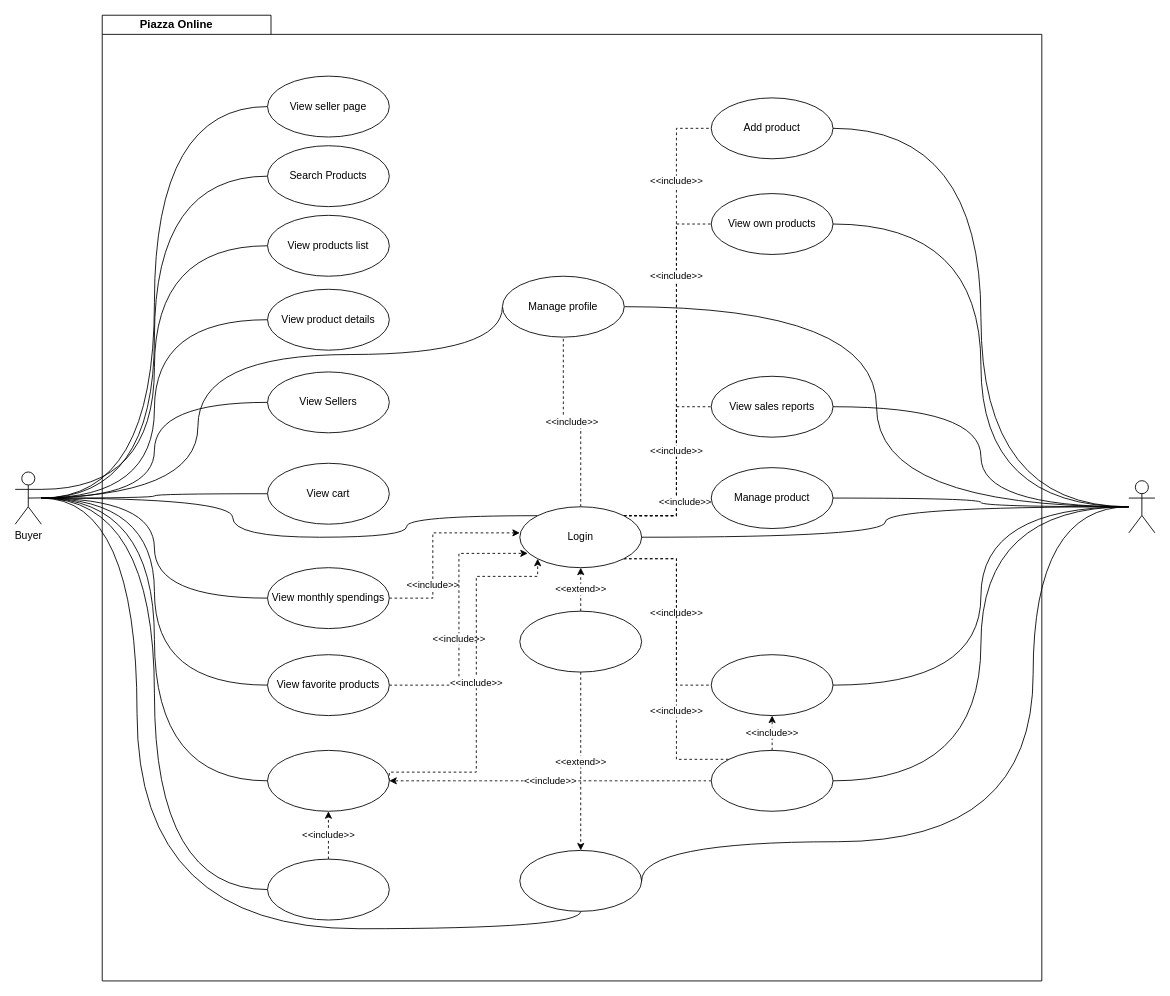
The diagram is 1170 pixels wide and 996 high, and some of its shapes have lost their labels. Here are the shapes that lost their labels. From the top down, the centre of each, then its label:
At (1141,506): "Seller".
At (580,641): "Invalid credentials".
At (771,685): "View orders".
At (328,780): "Place order".
At (771,780): "Procces order".
At (328,889): "Make Review".
At (580,880): "Register".
